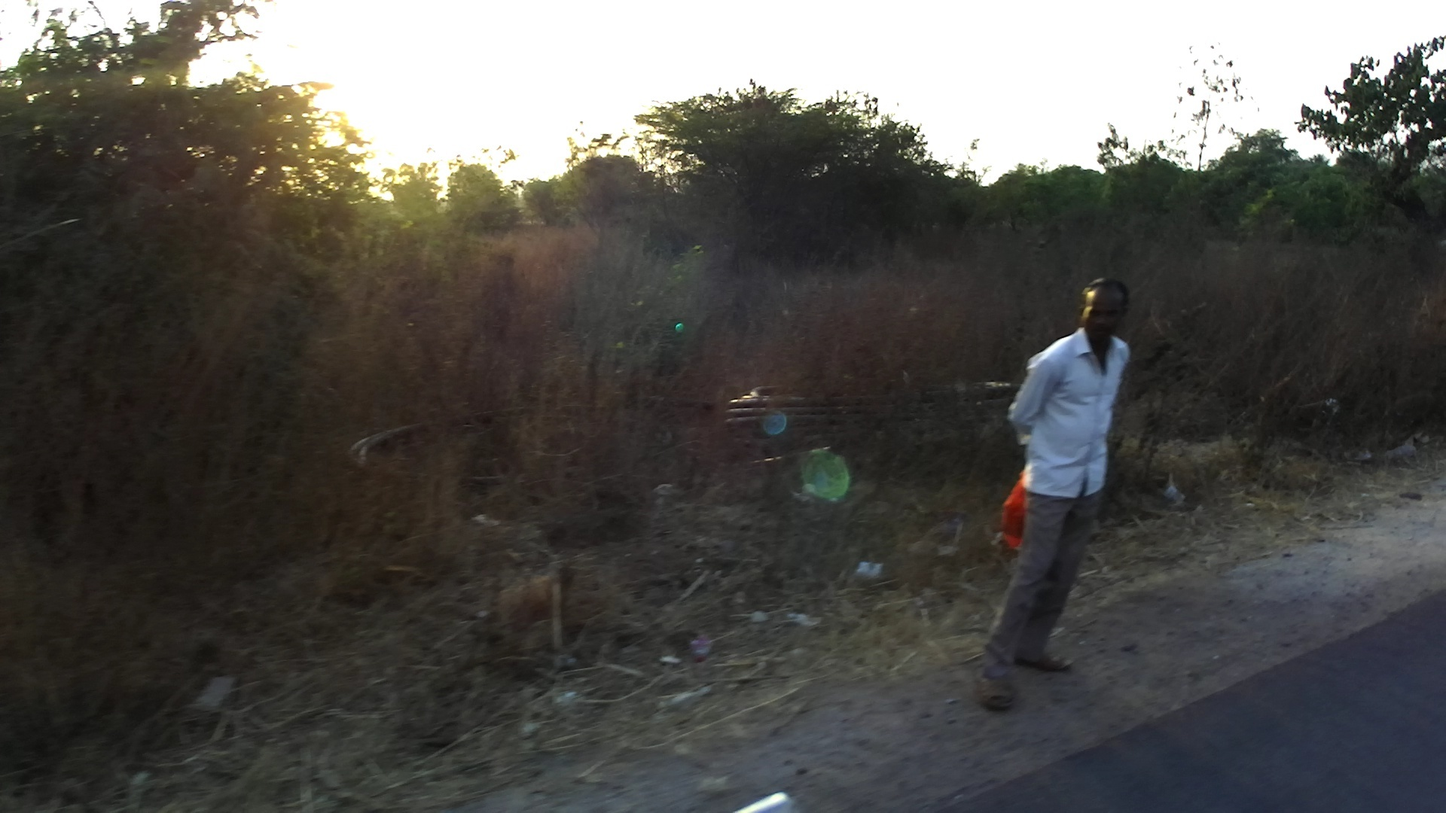person: (971, 278, 1133, 711)
